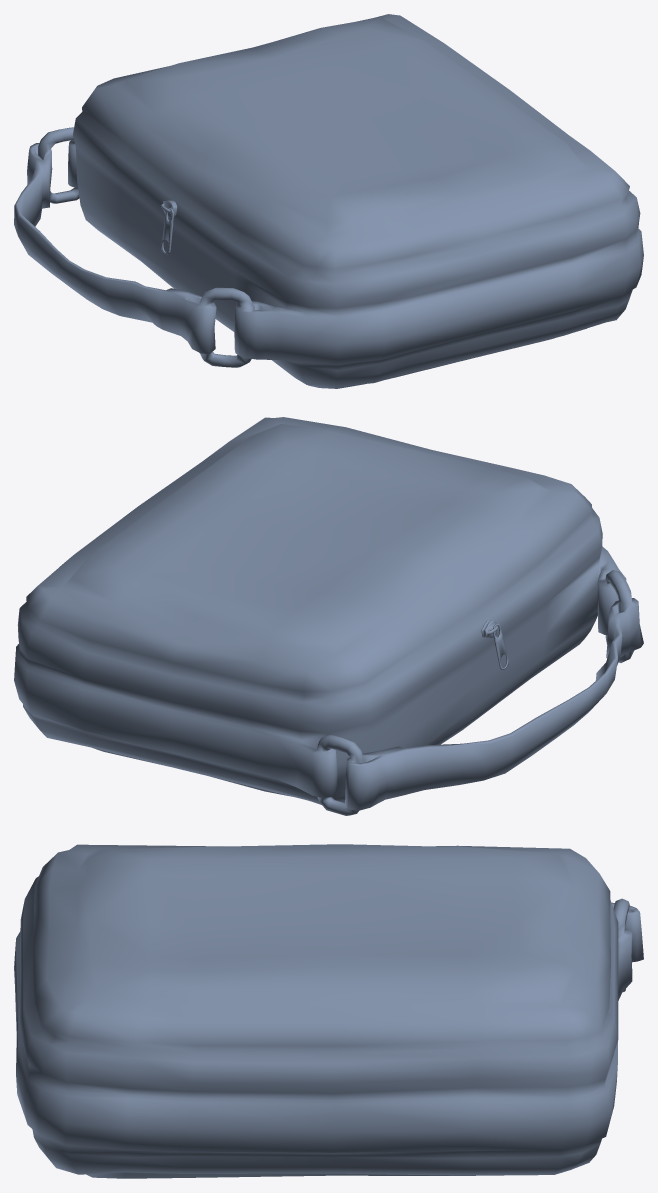
Rendered from MedicalKitObj.fbx.
The picture shows the model from 3 angles, top to bottom: view 1: azimuth 30°, elevation 25°; view 2: azimuth 150°, elevation 25°; view 3: azimuth 270°, elevation 25°; orthographic projection. The views are drawn at different scales.
Parts seen in each view (by area): view 1: MedicalKitObj; view 2: MedicalKitObj; view 3: MedicalKitObj.
Boxes of the visible parts, x1,y1,x2,y2 form: MedicalKitObj: (14, 14, 643, 388); MedicalKitObj: (14, 417, 643, 815); MedicalKitObj: (14, 844, 643, 1178).
Size of the model in its own units: 16.46 by 5.88 by 17.12.
